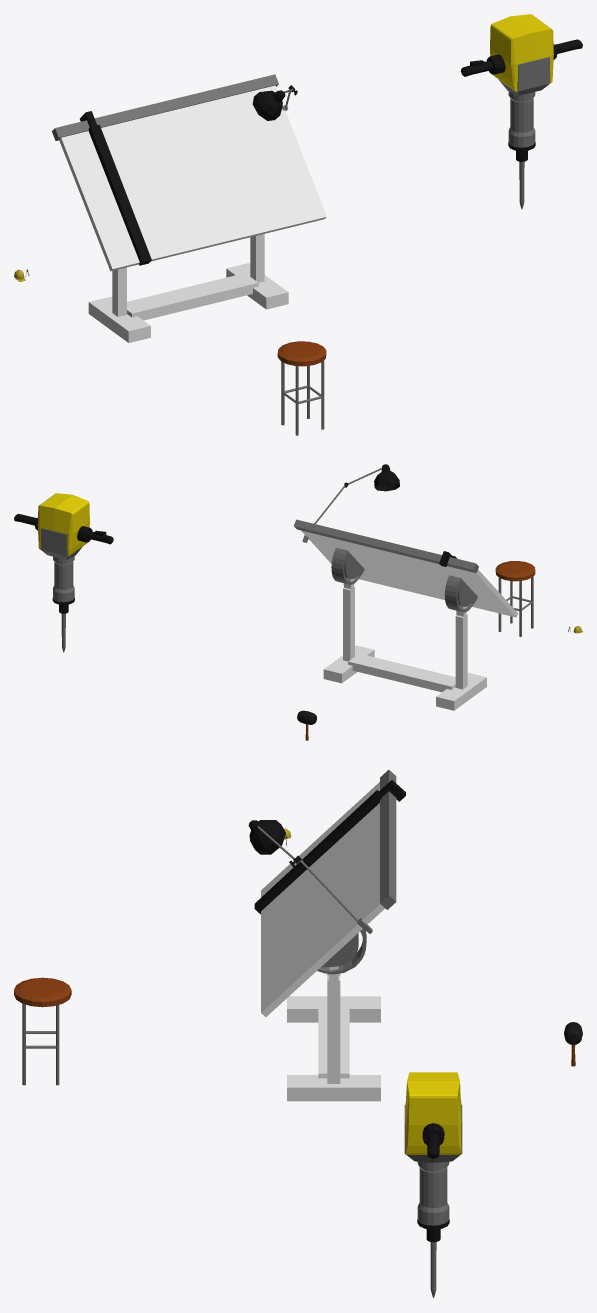
Rendered from CenarioAssets.fbx.
3 renders of one model, top to bottom at view 1: azimuth 30°, elevation 25°; view 2: azimuth 150°, elevation 25°; view 3: azimuth 270°, elevation 25°, orthographic. The views are drawn at different scales.
Parts seen in each view (by area): view 1: BaseDaTabua, Martelete, Banquinho; view 2: BaseDaTabua, Martelete, Banquinho; view 3: BaseDaTabua, Martelete, Banquinho.
Boxes of the visible parts, box(x1,y1,x2,y2) form: BaseDaTabua: box(52, 74, 326, 342); Martelete: box(460, 14, 582, 209); Banquinho: box(277, 341, 326, 435); BaseDaTabua: box(294, 464, 517, 710); Martelete: box(14, 493, 113, 652); Banquinho: box(495, 561, 535, 636); BaseDaTabua: box(248, 770, 405, 1101); Martelete: box(404, 1072, 462, 1297); Banquinho: box(14, 977, 71, 1085).
Size of the model in its own units: 285 by 109 by 190.
